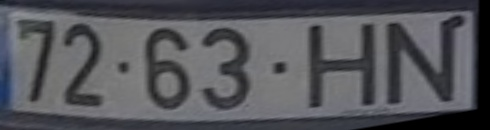2: (59, 20, 106, 109)
3: (196, 25, 255, 112)
6: (140, 24, 194, 114)
7: (13, 18, 59, 106)
H: (305, 19, 379, 111)
N: (384, 18, 458, 108)
